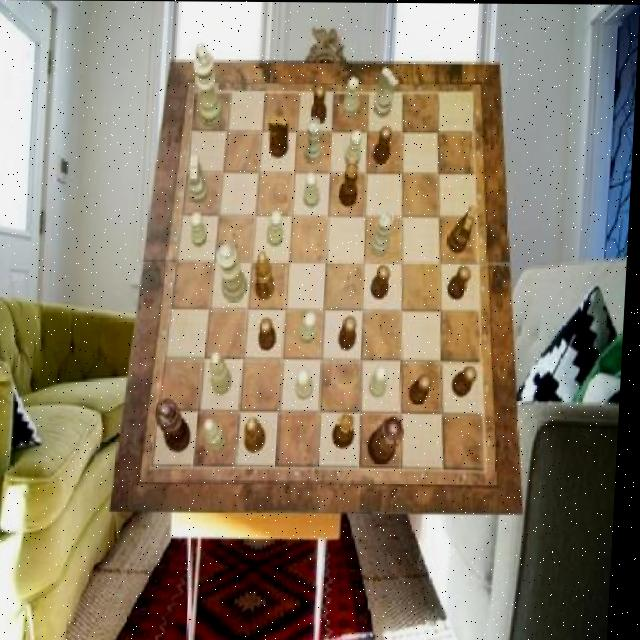bishop: (257, 251, 279, 300), (247, 417, 271, 453)
black-bishop: (157, 398, 196, 452)
black-king: (450, 206, 479, 254), (268, 115, 289, 158)
black-knight: (449, 264, 474, 299), (455, 366, 480, 397), (412, 373, 436, 404), (374, 125, 393, 164), (373, 264, 394, 299), (311, 85, 329, 125), (341, 314, 360, 349), (261, 318, 279, 351)
black-pawn: (370, 416, 408, 464)
black-queen: (340, 161, 361, 207), (335, 412, 359, 448)
black-rook: (211, 352, 236, 396), (206, 418, 232, 453)
white-bishop: (191, 44, 227, 126)
white-king: (374, 67, 399, 118), (189, 155, 212, 203)
white-knight: (346, 128, 364, 166), (344, 76, 361, 116), (192, 212, 211, 247), (304, 171, 323, 206), (373, 364, 392, 398), (299, 368, 317, 401), (302, 311, 320, 344), (270, 211, 287, 245)
white-pawn: (216, 243, 252, 302)
white-queen: (372, 210, 396, 256), (305, 117, 325, 163)
